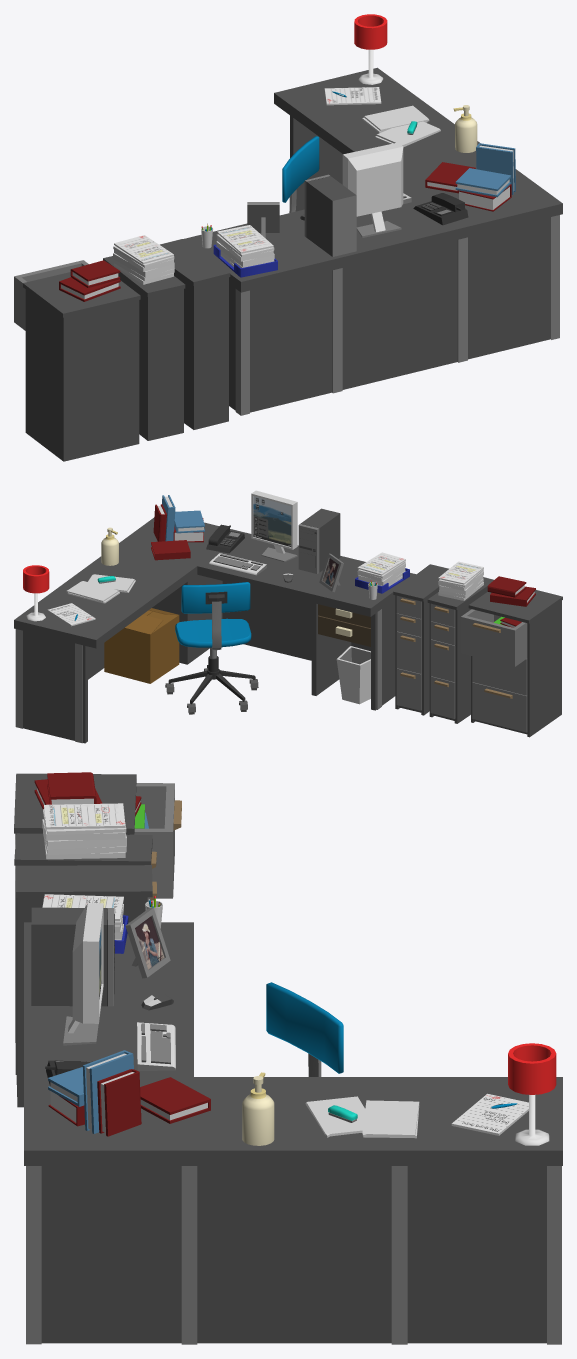
Rendered from desktop.glb.
3 views of the same model, one above another, from view 1: azimuth 30°, elevation 25°; view 2: azimuth 150°, elevation 25°; view 3: azimuth 270°, elevation 25° (orthographic). The views are drawn at different scales.
Parts seen in each view (by area): view 1: desk_3_alt__1_, file_cabinet_medium__1_, file_cabinet_small__5_, file_cabinet_small__4_, new_monitor__4_, old_pc_case, simple_office_chair_variant, lamp_small, pile_of_paper_custom__2_, book_3__37_, book_3__36_, Drawer_B_1_1 (+14 smaller); view 2: desk_3_alt__1_, file_cabinet_medium__1_, simple_office_chair_variant, box, Drawer_B_1_1, new_monitor__4_, file_cabinet_small__5_, file_cabinet_small__4_, old_pc_case, Drawer_B_3, small_trash_bin, Drawer_B_2_1 (+31 smaller); view 3: desk_3_alt__1_, file_cabinet_small__5_, old_pc_case, simple_office_chair_variant, new_monitor__4_, file_cabinet_medium__1_, Drawer_B_1_1, lamp_small, file_cabinet_small__4_, pile_of_paper_custom__2_, book_1__2_, book_3__38_ (+11 smaller).
Part boxes in pixels (x1=…): desk_3_alt__1_: x1=183, y1=67, x2=562, y2=415; file_cabinet_medium__1_: x1=23, y1=272, x2=140, y2=461; file_cabinet_small__5_: x1=160, y1=239, x2=230, y2=429; file_cabinet_small__4_: x1=103, y1=256, x2=185, y2=440; new_monitor__4_: x1=342, y1=142, x2=403, y2=237; old_pc_case: x1=304, y1=174, x2=356, y2=256; simple_office_chair_variant: x1=282, y1=136, x2=319, y2=212; lamp_small: x1=354, y1=14, x2=387, y2=84; pile_of_paper_custom__2_: x1=113, y1=246, x2=174, y2=284; book_3__37_: x1=476, y1=143, x2=515, y2=194; book_3__36_: x1=455, y1=168, x2=511, y2=197; Drawer_B_1_1: x1=14, y1=260, x2=88, y2=330; desk_3_alt__1_: x1=14, y1=517, x2=415, y2=743; file_cabinet_medium__1_: x1=468, y1=590, x2=562, y2=737; simple_office_chair_variant: x1=175, y1=582, x2=251, y2=658; box: x1=104, y1=616, x2=179, y2=683; Drawer_B_1_1: x1=461, y1=609, x2=527, y2=666; new_monitor__4_: x1=251, y1=490, x2=297, y2=561; file_cabinet_small__5_: x1=393, y1=564, x2=448, y2=715; file_cabinet_small__4_: x1=427, y1=577, x2=493, y2=723; old_pc_case: x1=298, y1=508, x2=340, y2=573; Drawer_B_3: x1=472, y1=682, x2=527, y2=732; small_trash_bin: x1=336, y1=646, x2=370, y2=704; Drawer_B_2_1: x1=472, y1=656, x2=527, y2=695; desk_3_alt__1_: x1=24, y1=922, x2=562, y2=1344; file_cabinet_small__5_: x1=15, y1=865, x2=152, y2=1107; old_pc_case: x1=31, y1=907, x2=114, y2=1006; simple_office_chair_variant: x1=266, y1=982, x2=343, y2=1076; new_monitor__4_: x1=63, y1=903, x2=103, y2=1045; file_cabinet_medium__1_: x1=14, y1=773, x2=136, y2=1042; Drawer_B_1_1: x1=130, y1=783, x2=181, y2=898; lamp_small: x1=508, y1=1043, x2=556, y2=1145; file_cabinet_small__4_: x1=14, y1=833, x2=152, y2=1074; pile_of_paper_custom__2_: x1=42, y1=809, x2=126, y2=859; book_1__2_: x1=97, y1=1069, x2=141, y2=1136; book_3__38_: x1=140, y1=1077, x2=210, y2=1123.
Bounding box in the file's own units: 3.72 × 1.49 × 2.42.
Materials: 9 (9 with a texture image).
